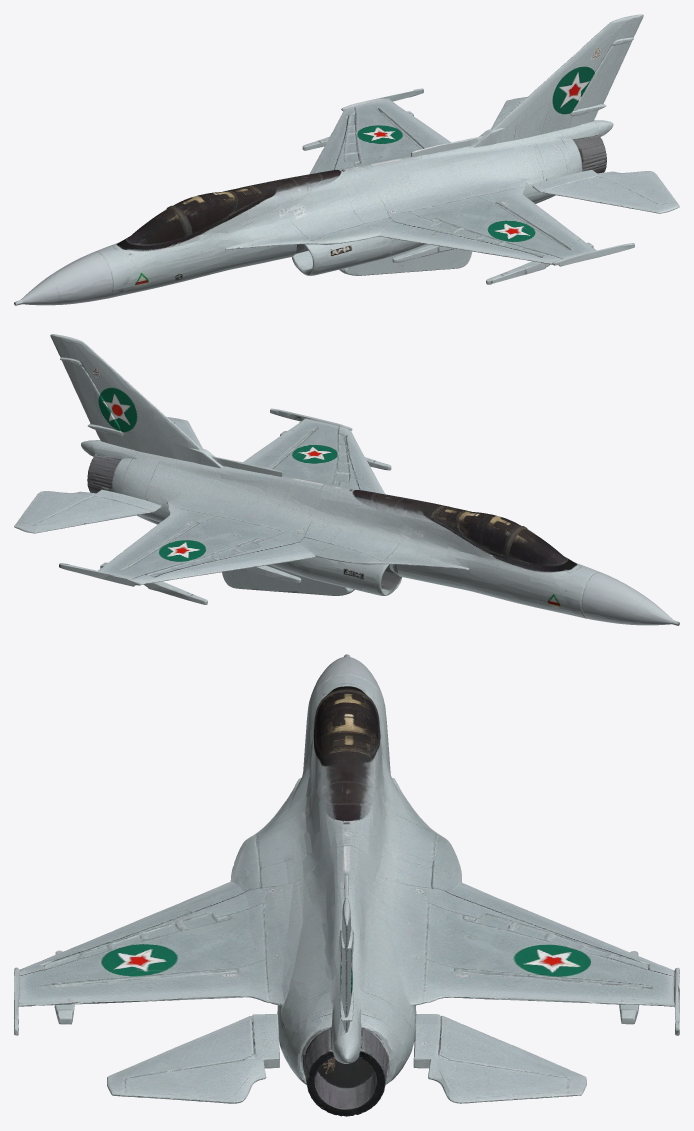
Rendered from tejas.glb.
The picture shows the model from 3 angles, top to bottom: view 1: azimuth 30°, elevation 25°; view 2: azimuth 150°, elevation 25°; view 3: azimuth 270°, elevation 25°; orthographic projection. The views are drawn at different scales.
Size of the model in its own units: 1.9 by 0.5977 by 1.11.
Materials: 1 (1 with a texture image).
